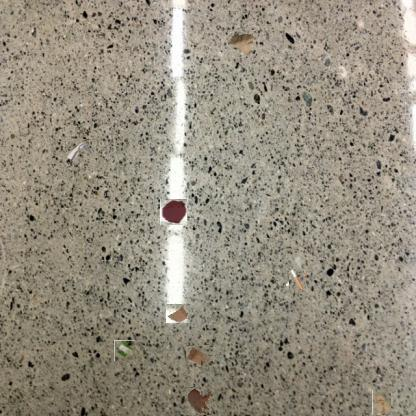dirty: (228, 30, 256, 58), (64, 139, 93, 163), (186, 344, 212, 368), (372, 390, 391, 416), (167, 302, 189, 324), (114, 340, 135, 361), (287, 271, 305, 289)
liquid: (185, 387, 211, 415), (161, 199, 187, 226)
